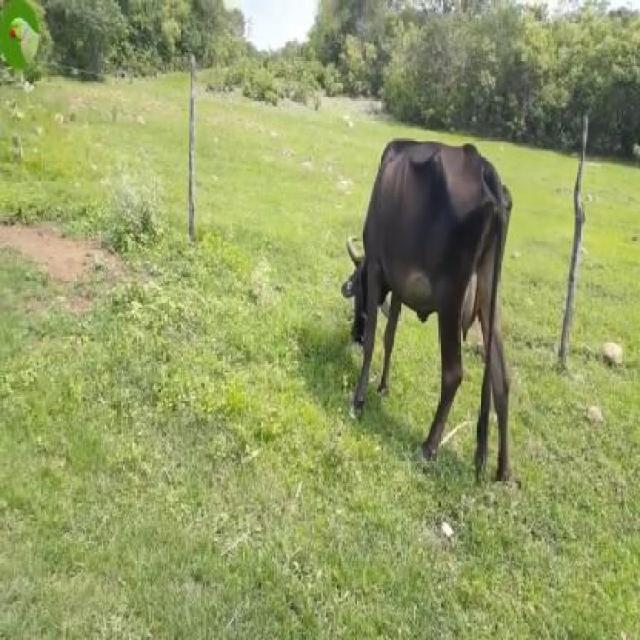Cow: (344, 138, 522, 491)
